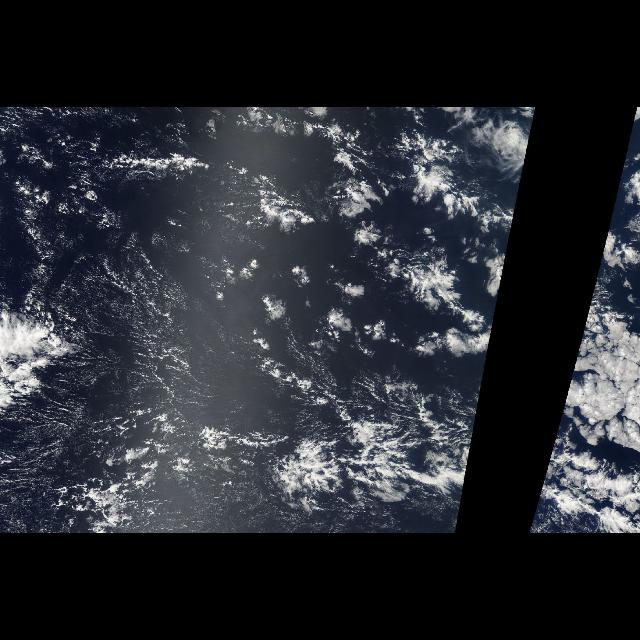Flower: (247, 220, 393, 356)
Sugar: (37, 184, 253, 528)
